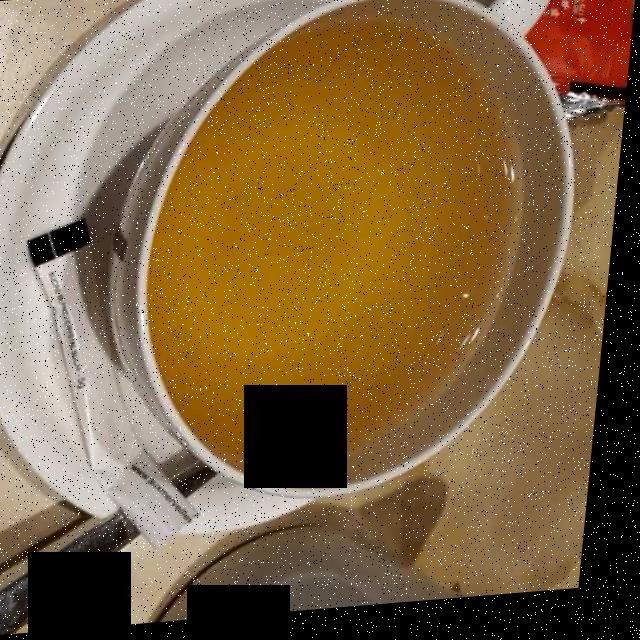tea: (159, 28, 522, 462)
